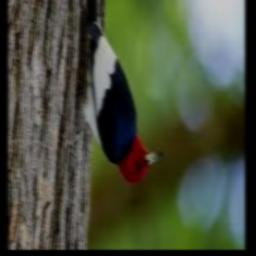Woodpecker: (71, 0, 164, 184)
